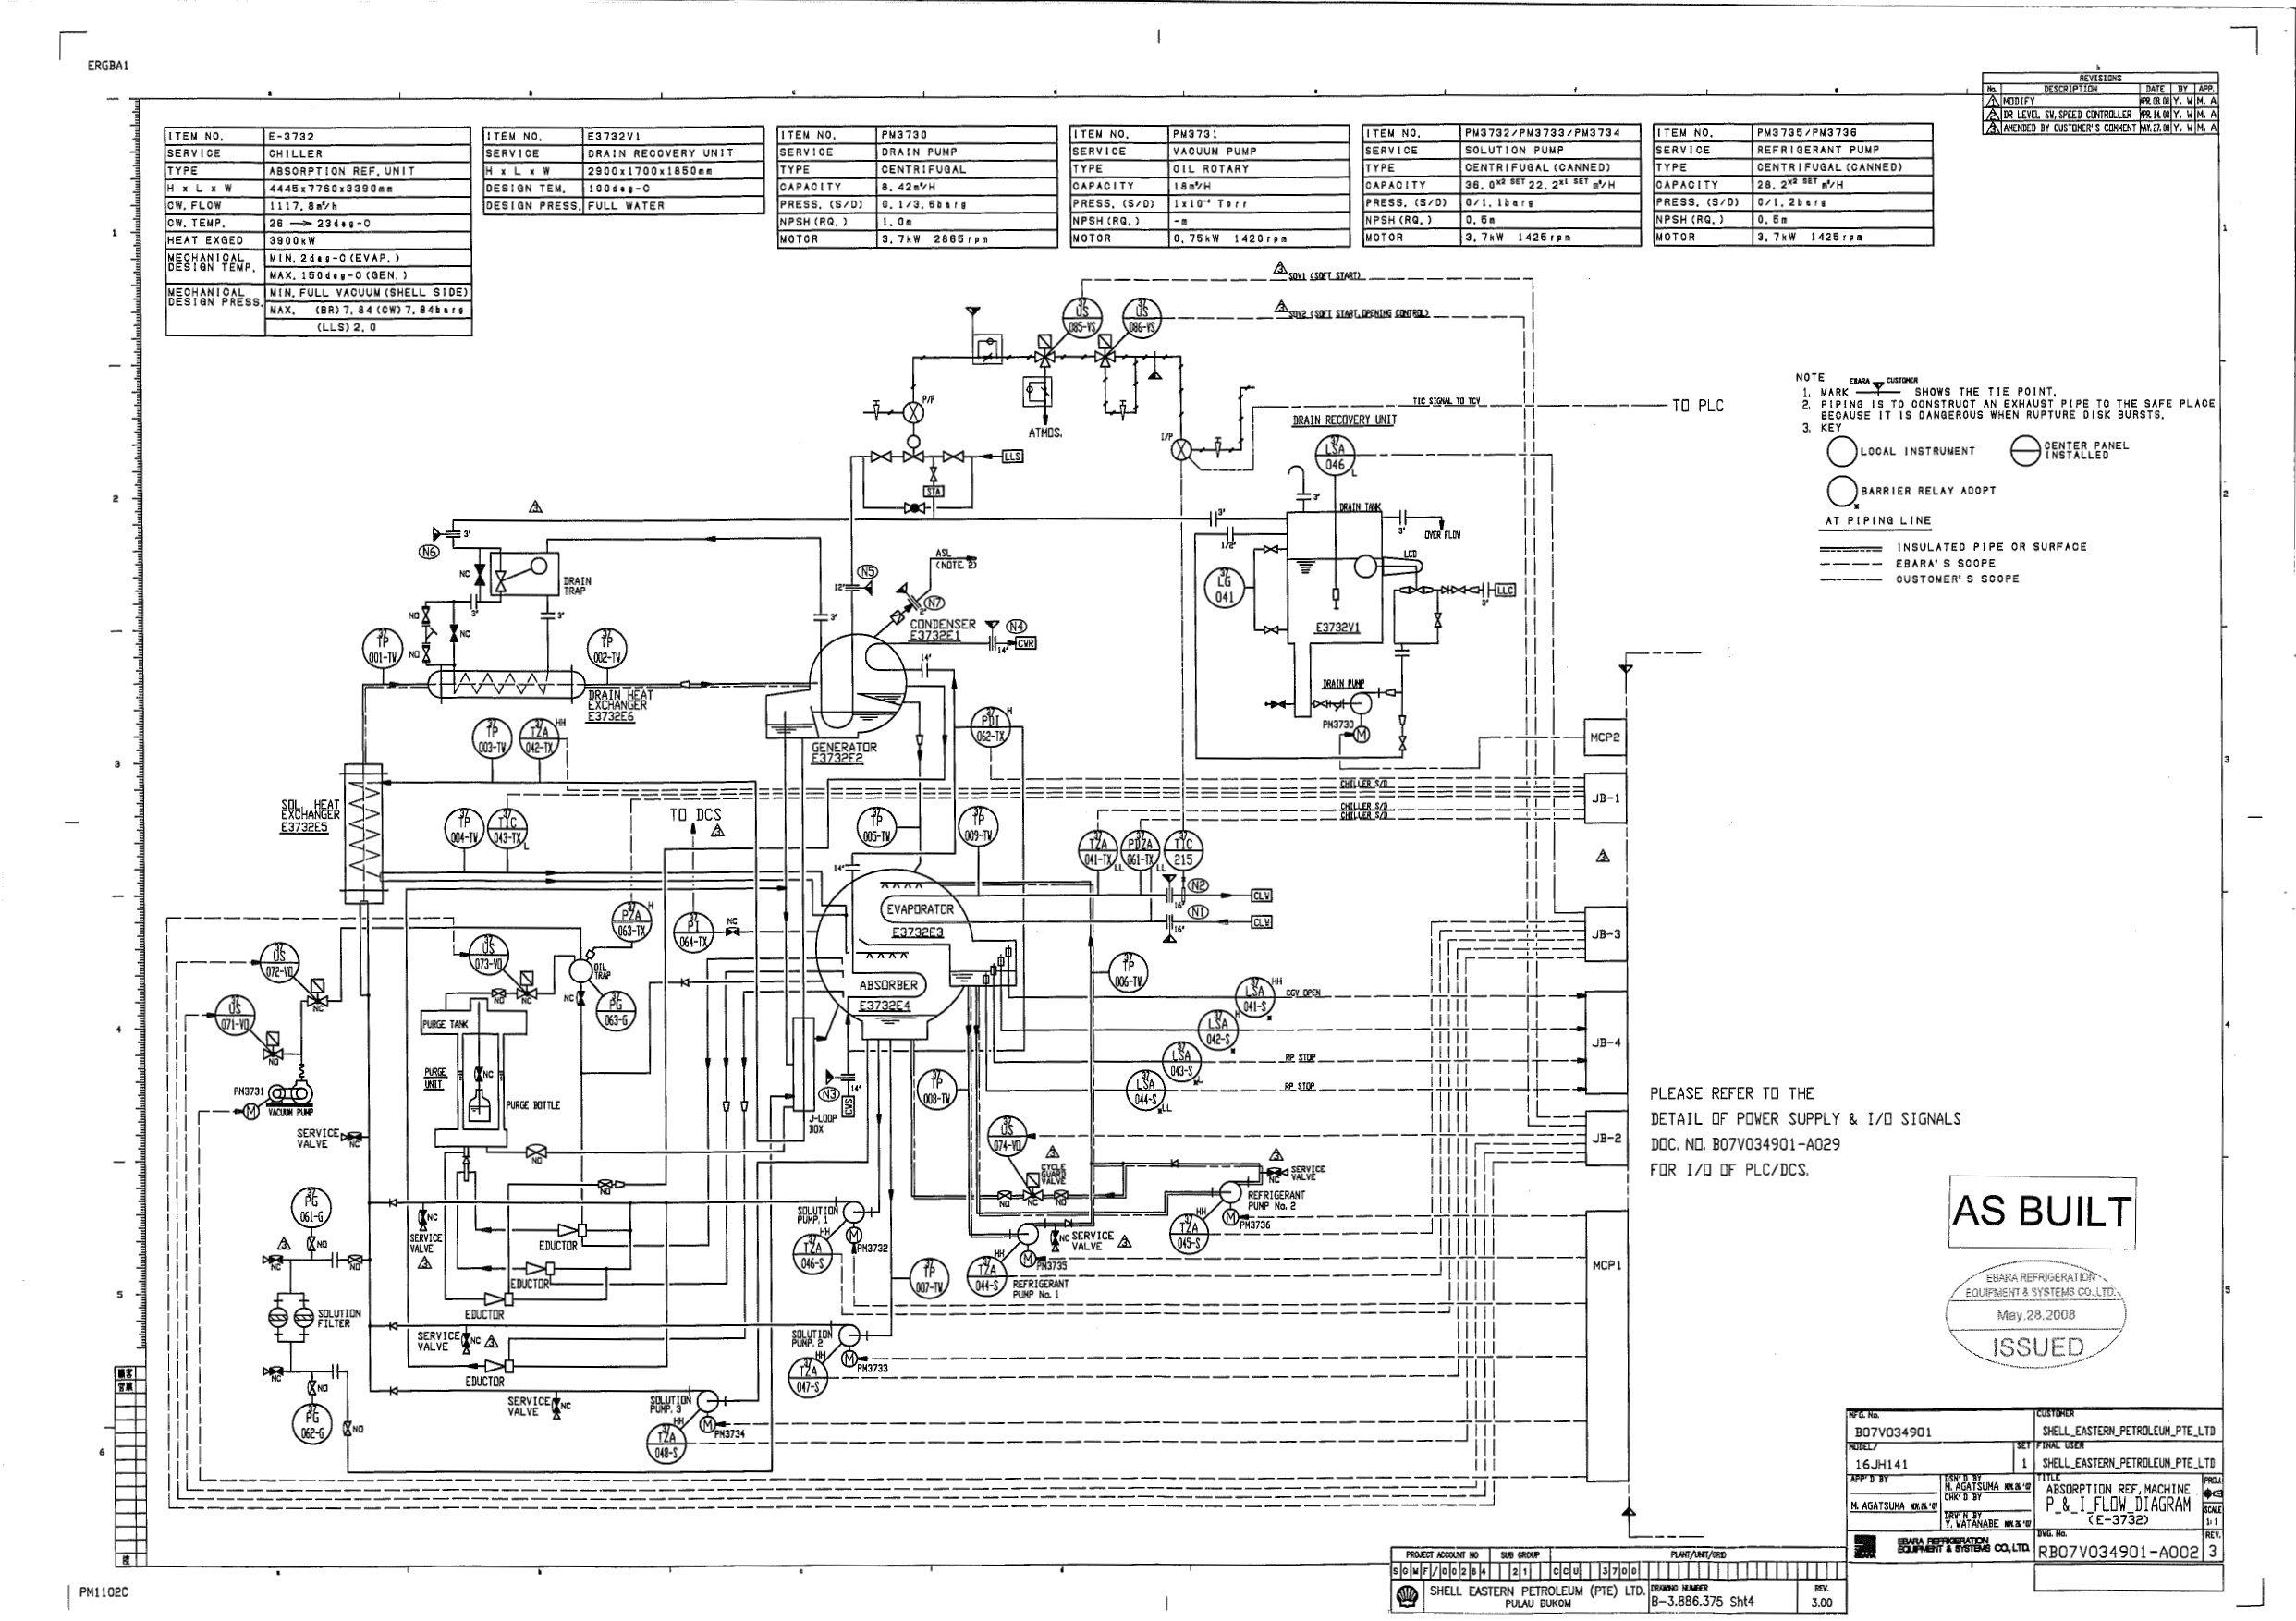Inlinel Instrument: (288, 1184, 335, 1232), (1105, 947, 1152, 995), (907, 1254, 954, 1302), (584, 626, 630, 674), (468, 714, 516, 760), (440, 805, 488, 851), (854, 802, 900, 849), (956, 802, 1003, 847), (916, 1065, 963, 1110), (289, 1403, 337, 1449), (360, 626, 405, 672), (986, 1112, 1031, 1158), (1205, 565, 1251, 611)
